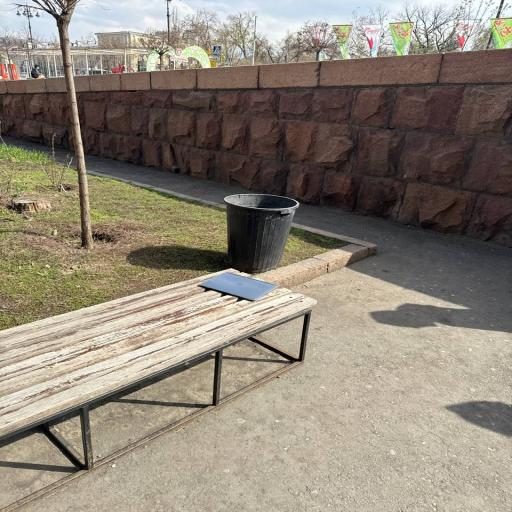corridor: (199, 272, 277, 300)
ramp: (224, 194, 299, 274)
trash_bin: (0, 255, 325, 512)
